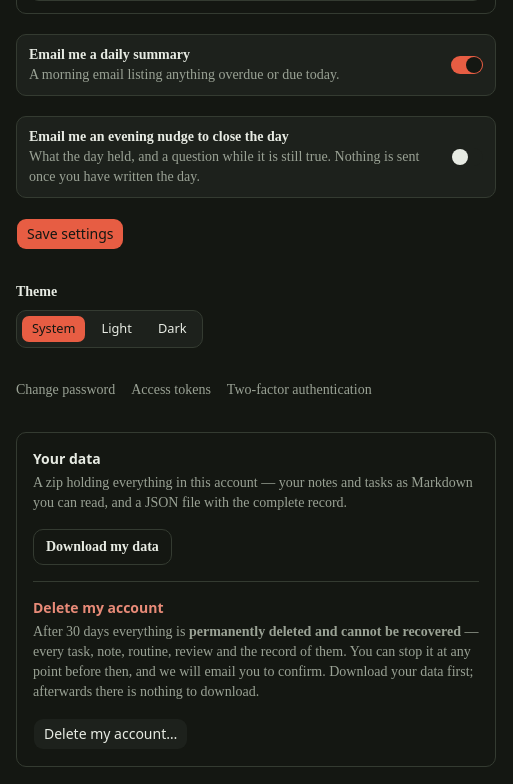
Test: PreferencesRoute — leaving › asks for the password before it will schedule anything
(page scrolled)
Click the button "Delete my account…": point(111, 734) [33,718,188,750]
(page scrolled)
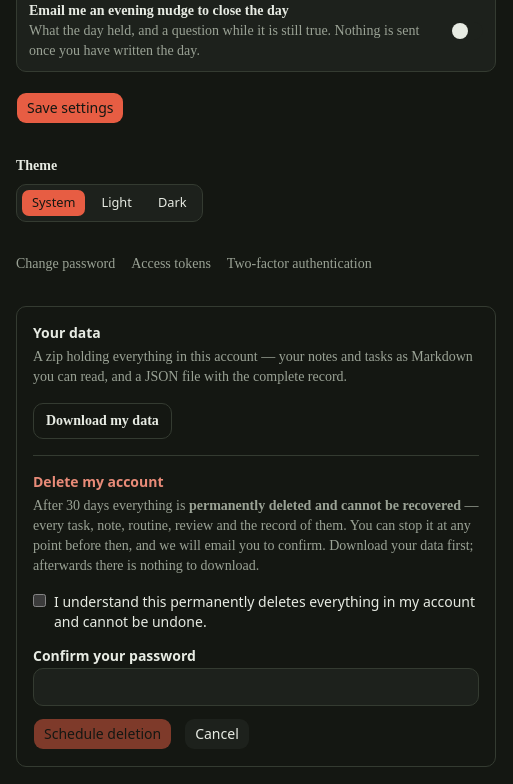
Expected: the password field labelled "Confirm your password" is shown, [33,668,479,706]
